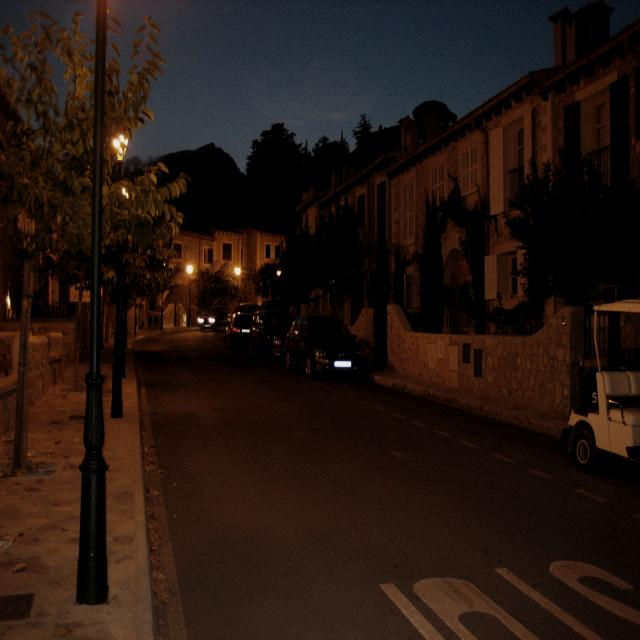Car: (280, 316, 363, 377)
